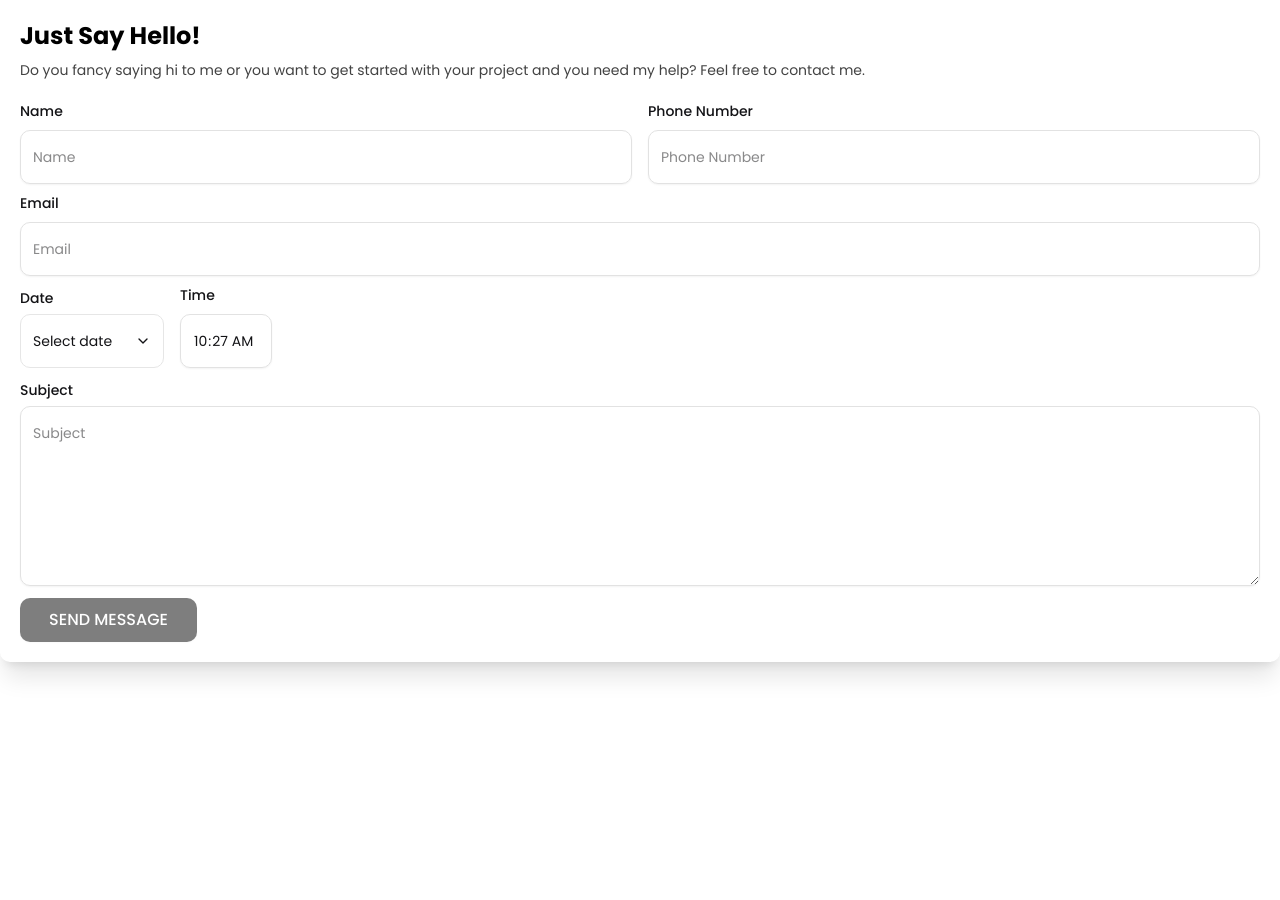
Test: Contact section Component › updates date and closes popover on date selection
Note: Open the date picker
Click the button "Select date": click(92, 341) [20, 314, 164, 368]
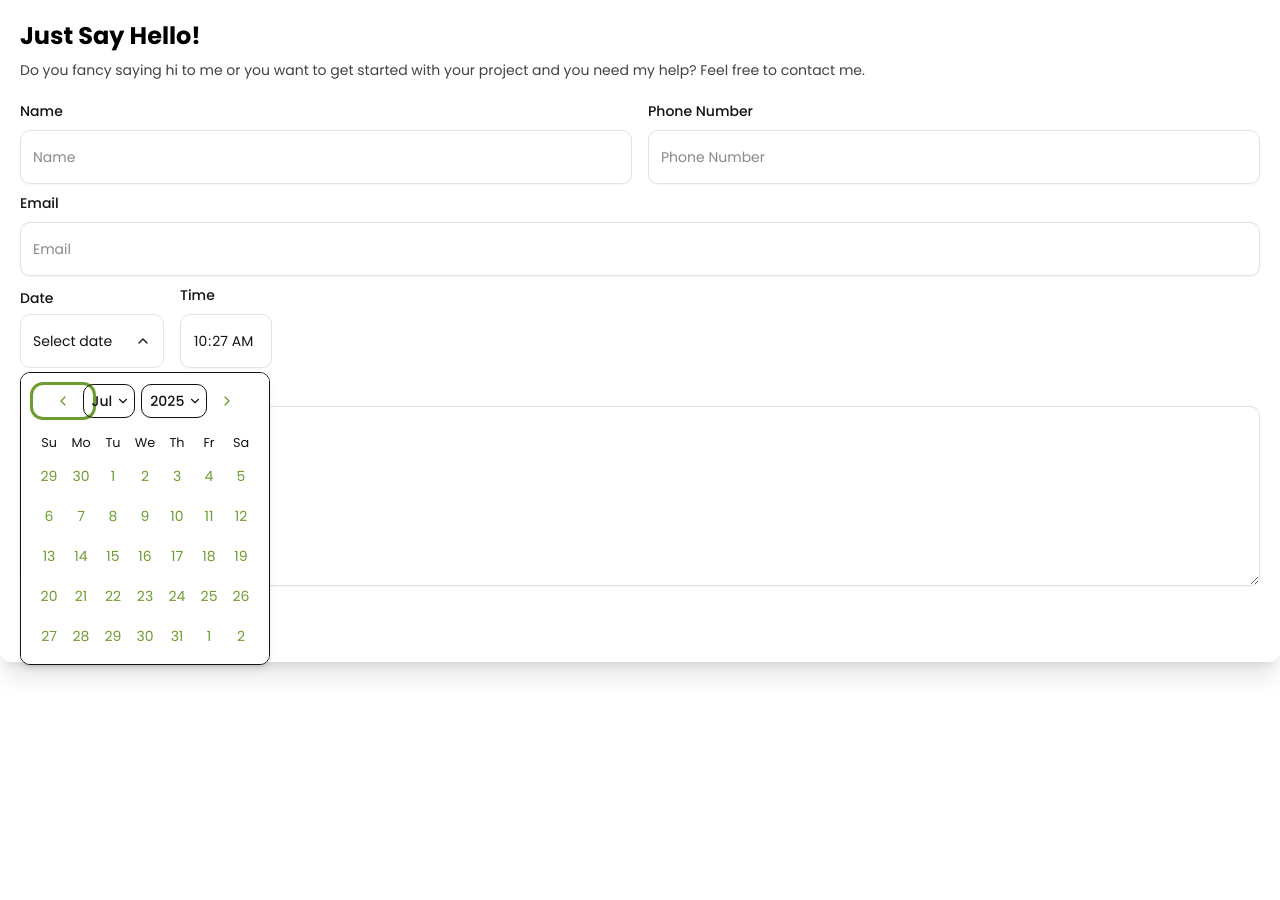
Expected: the button "Select date" is expanded, [20, 314, 164, 368]
Expected: the 1st button "29" is shown
Click the 1st button "29": click(49, 476) [33, 460, 65, 492]
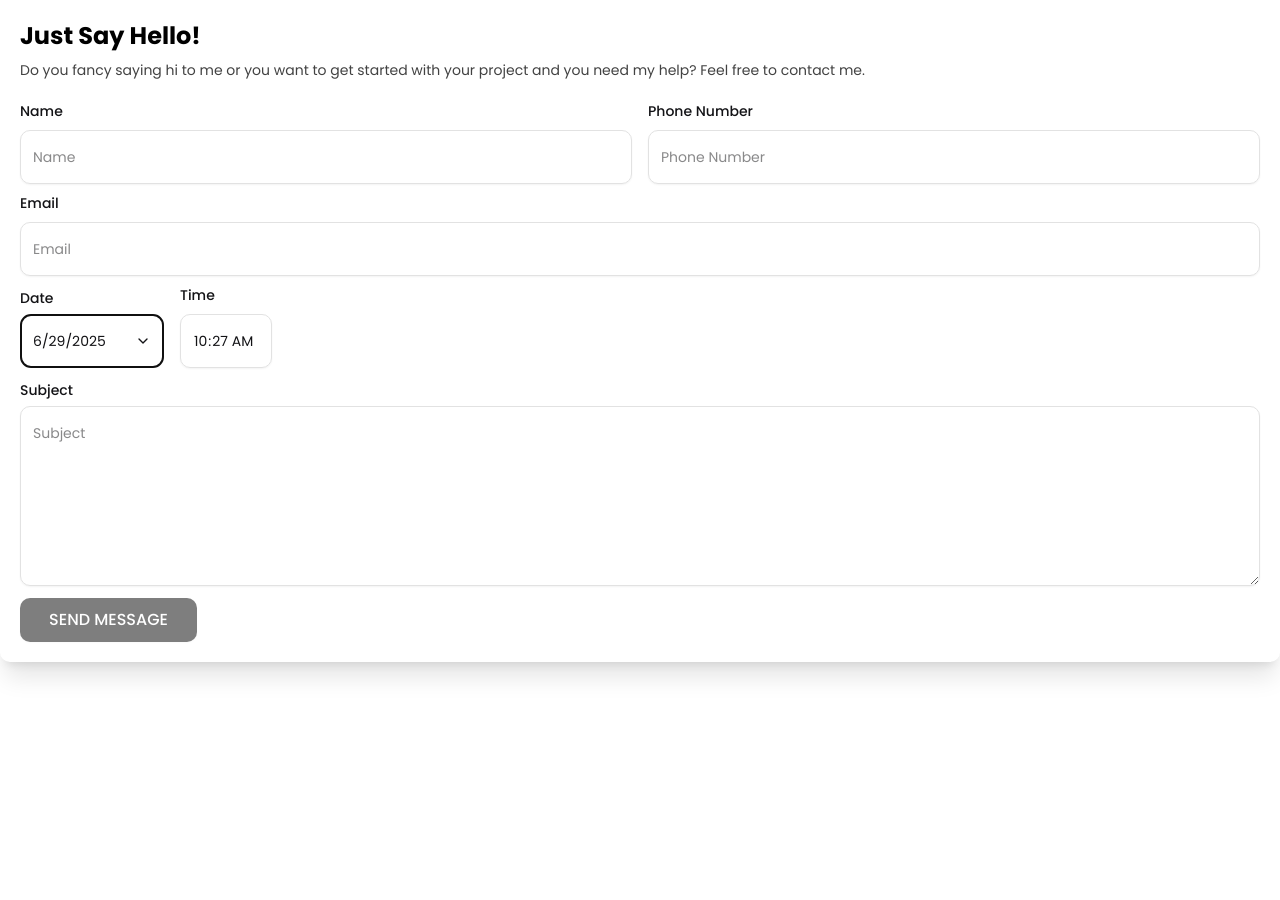
Expected: the button "6/29/2025" no longer shows "Select date", [20, 314, 164, 368]
